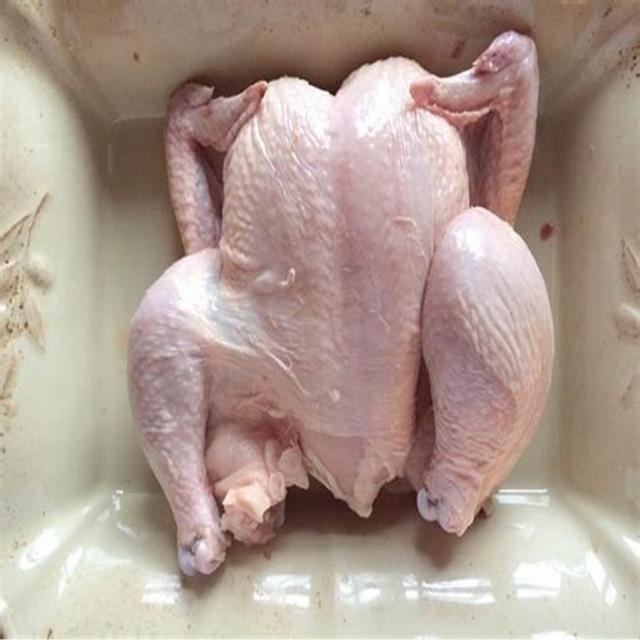chicken: (128, 31, 554, 576)
